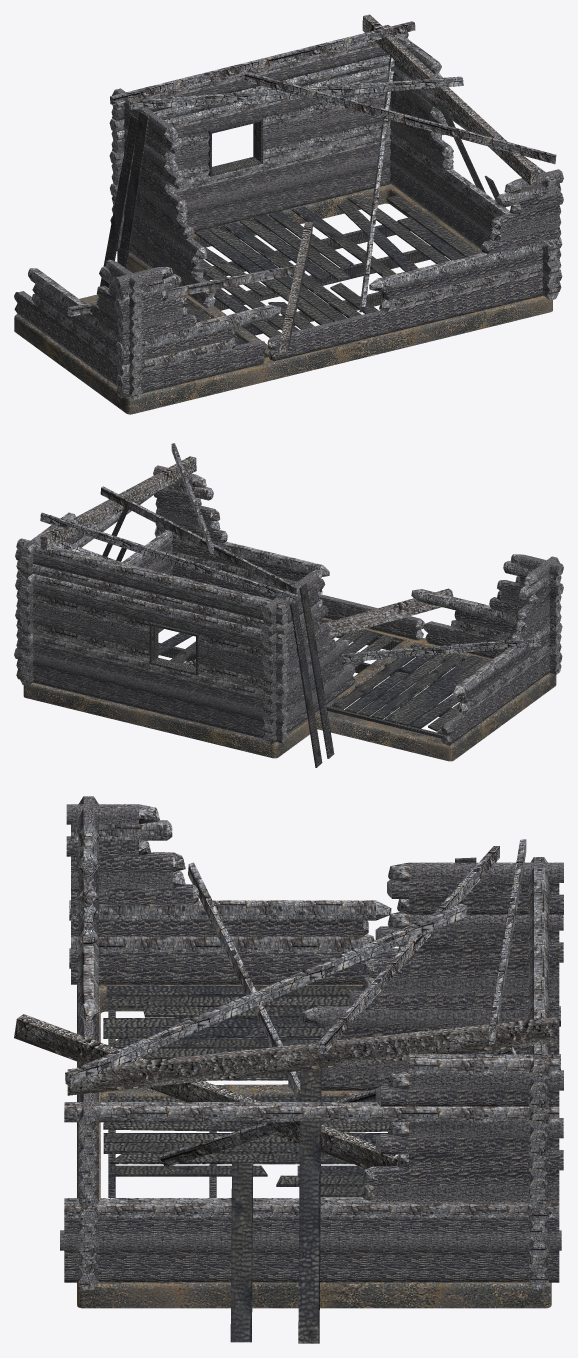
File: LogwoodHause_Burned_3.FBX
The picture shows the model from 3 angles, top to bottom: view 1: azimuth 30°, elevation 25°; view 2: azimuth 150°, elevation 25°; view 3: azimuth 270°, elevation 25°; orthographic projection. The views are drawn at different scales.
Parts seen in each view (by area): view 1: Walls, logs, Pol, Fundament, Pol_lags; view 2: Walls, logs, Fundament, Pol, Pol_lags; view 3: Walls, logs, Pol, Fundament, Pol_lags.
Boxes of the visible parts, x1,y1,x2,y2 form: Walls: [14, 25, 563, 399]; logs: [67, 14, 556, 354]; Pol: [184, 194, 478, 345]; Fundament: [14, 184, 552, 414]; Pol_lags: [192, 214, 462, 357]; Walls: [14, 465, 563, 745]; logs: [40, 443, 541, 767]; Fundament: [23, 617, 556, 761]; Pol: [158, 620, 490, 734]; Pol_lags: [158, 621, 467, 738]; Walls: [60, 796, 563, 1289]; logs: [14, 839, 557, 1343]; Pol: [103, 986, 389, 1197]; Fundament: [77, 984, 551, 1308]; Pol_lags: [108, 997, 288, 1197].
Size of the model in its own units: 982 by 388 by 656.
Materials: 2 (2 with a texture image).
